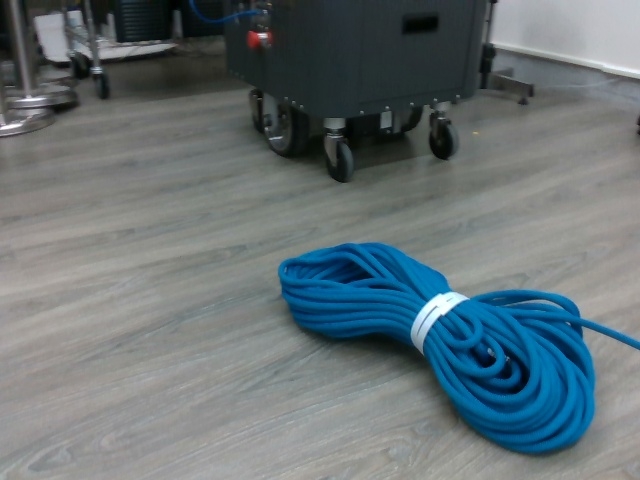rope: (275, 239, 601, 460)
